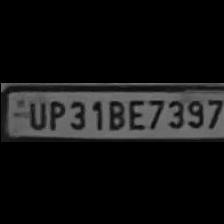1: (88, 96, 104, 130)
3: (64, 96, 86, 130), (163, 96, 183, 128)
7: (204, 95, 222, 129), (145, 96, 163, 128)
9: (184, 96, 204, 128)
B: (104, 96, 124, 130)
E: (126, 96, 146, 130)
P: (44, 97, 64, 129)
U: (23, 97, 44, 129)
